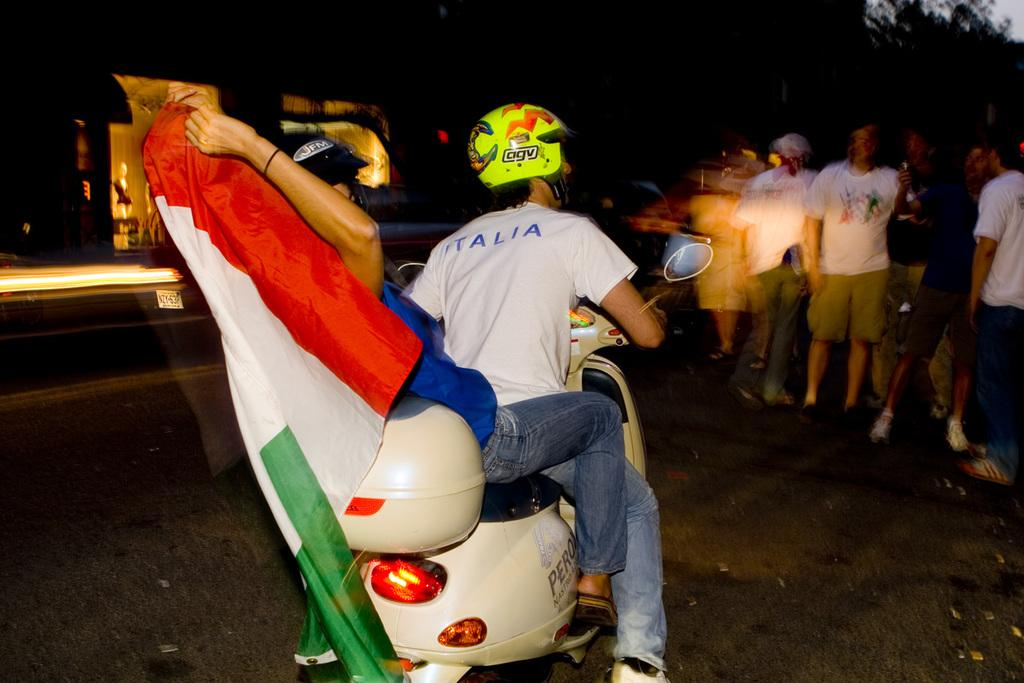helmet: (466, 103, 577, 203)
